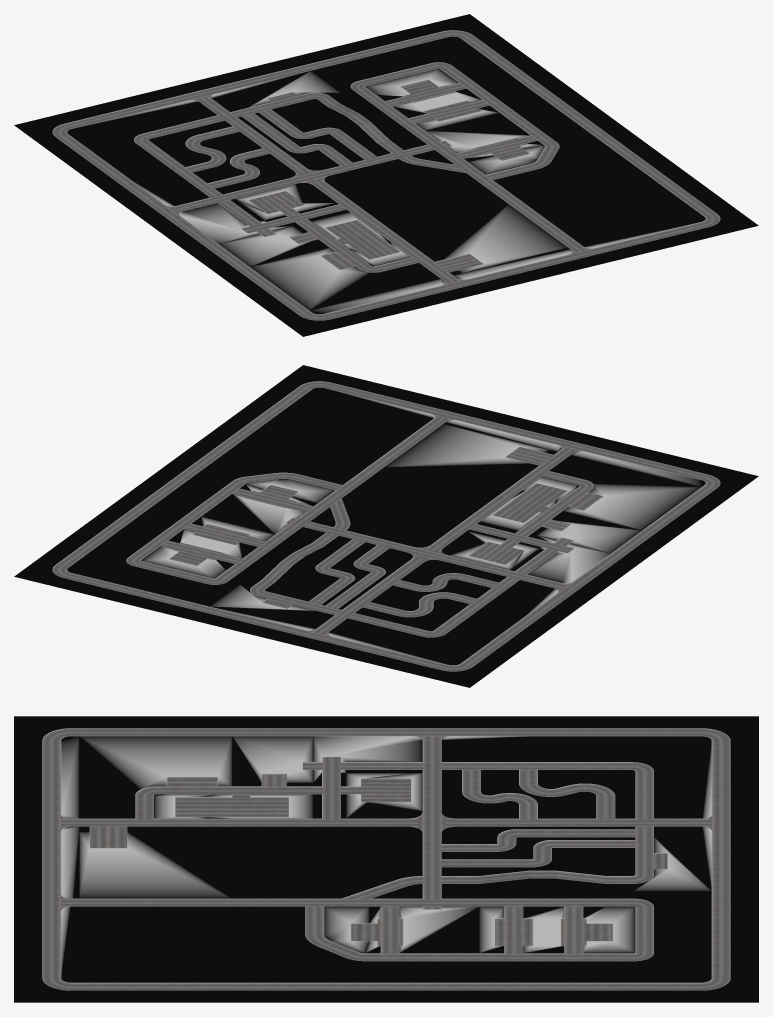
File: Autodrom.fbx
The picture shows the model from 3 angles, top to bottom: view 1: azimuth 30°, elevation 25°; view 2: azimuth 150°, elevation 25°; view 3: azimuth 270°, elevation 25°; orthographic projection. The views are drawn at different scales.
Visible parts, largest first — view 1: Autodrom; view 2: Autodrom; view 3: Autodrom.
Boxes of the visible parts, <box> form: Autodrom: <box>14,14,758,336</box>; Autodrom: <box>14,365,758,687</box>; Autodrom: <box>14,716,758,1002</box>.
Bounding box in the file's own units: 234 × 2.2 × 258.
